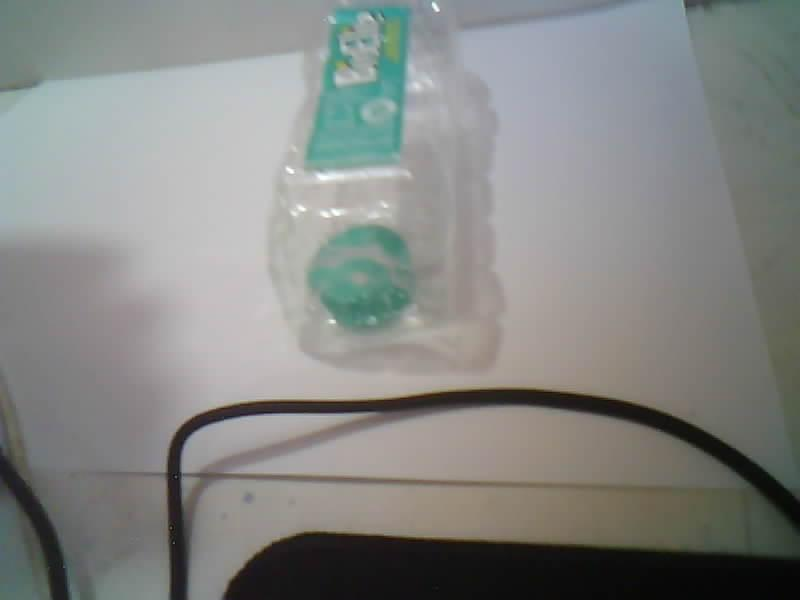non-biodegradable: (268, 0, 499, 367)
